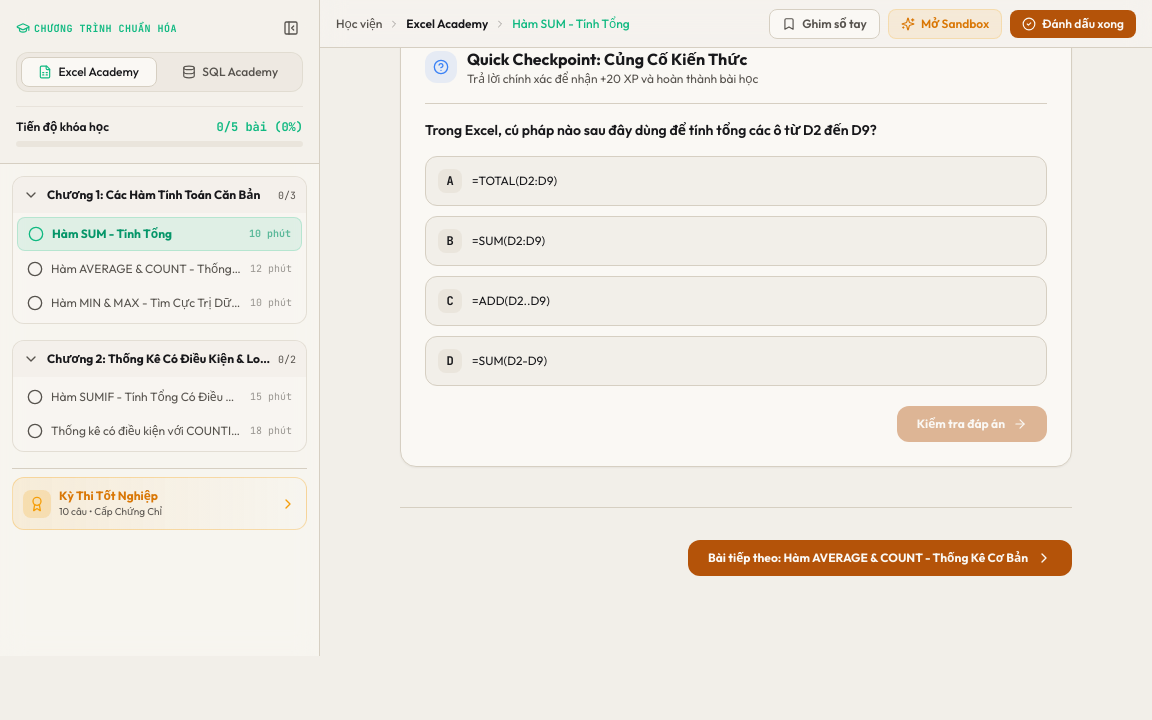
Test: AcademyCoursePage Tests (Sprint 9.5 — Step 9.5.2) › 6. Điều hướng tuần tự với nút "Bài tiếp theo" hoạt động chuẩn xác
(page scrolled)
Click the link "Bài tiếp theo: Hàm AVERAGE & COUNT - Thống Kê Cơ Bản".
click(880, 558)  # box [688,540,1072,576]
(page scrolled)
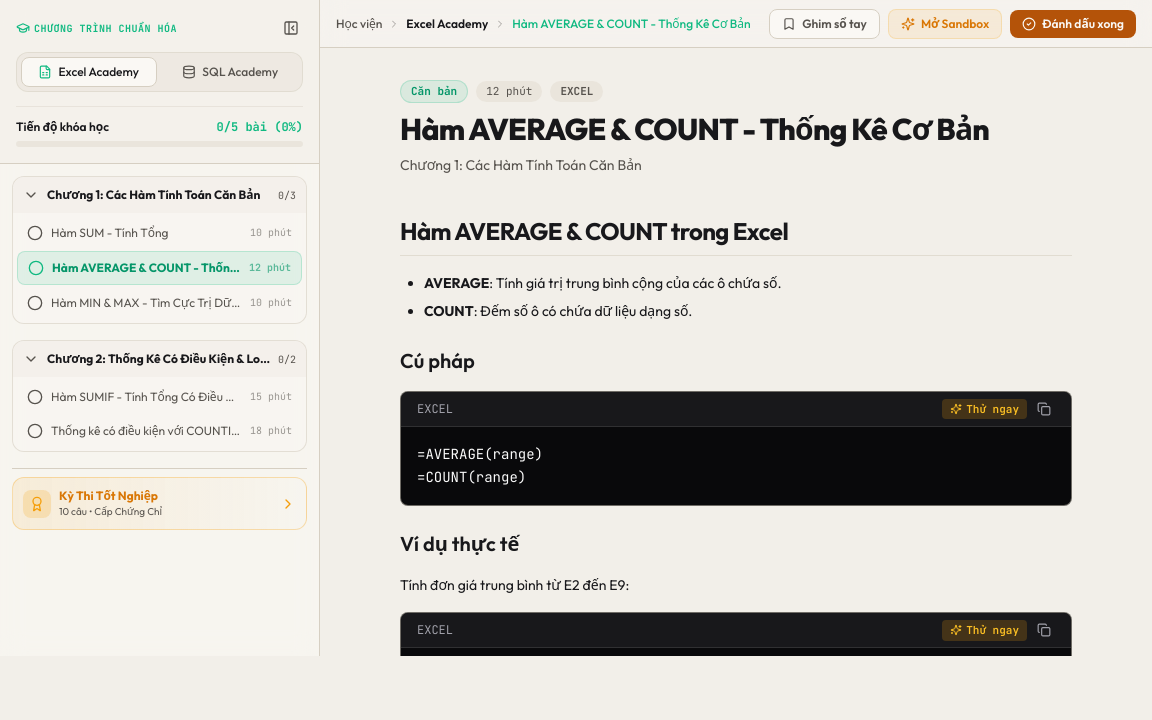
Now the heading "Hàm AVERAGE & COUNT - Thống Kê Cơ Bản" is shown, box [400,110,1072,146]
